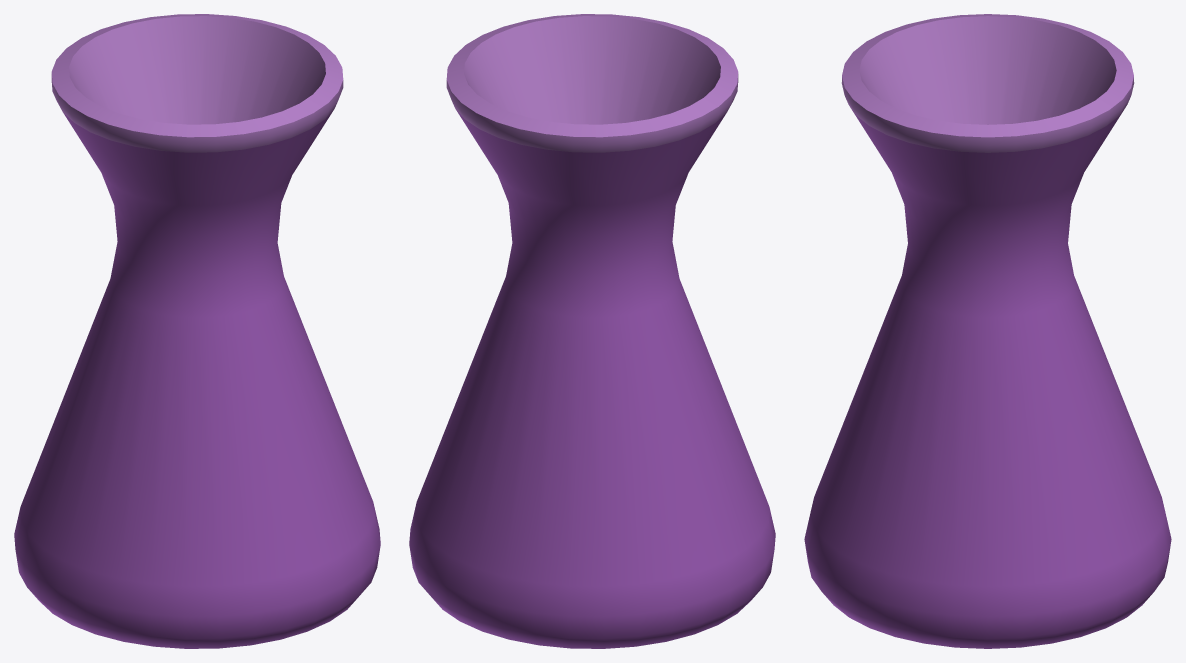
The model's file is Vase-2.fbx.
3 views of the same model, side by side, from view 1: azimuth 30°, elevation 25°; view 2: azimuth 150°, elevation 25°; view 3: azimuth 270°, elevation 25° (orthographic).
Parts seen in each view (by area): view 1: Vase-2; view 2: Vase-2; view 3: Vase-2.
Boxes of the visible parts, x1,y1,x2,y2 form: Vase-2: (14, 14, 380, 648); Vase-2: (409, 14, 775, 648); Vase-2: (804, 14, 1171, 648).
Bounding box in the file's own units: 0.1509 × 0.2328 × 0.1509.
